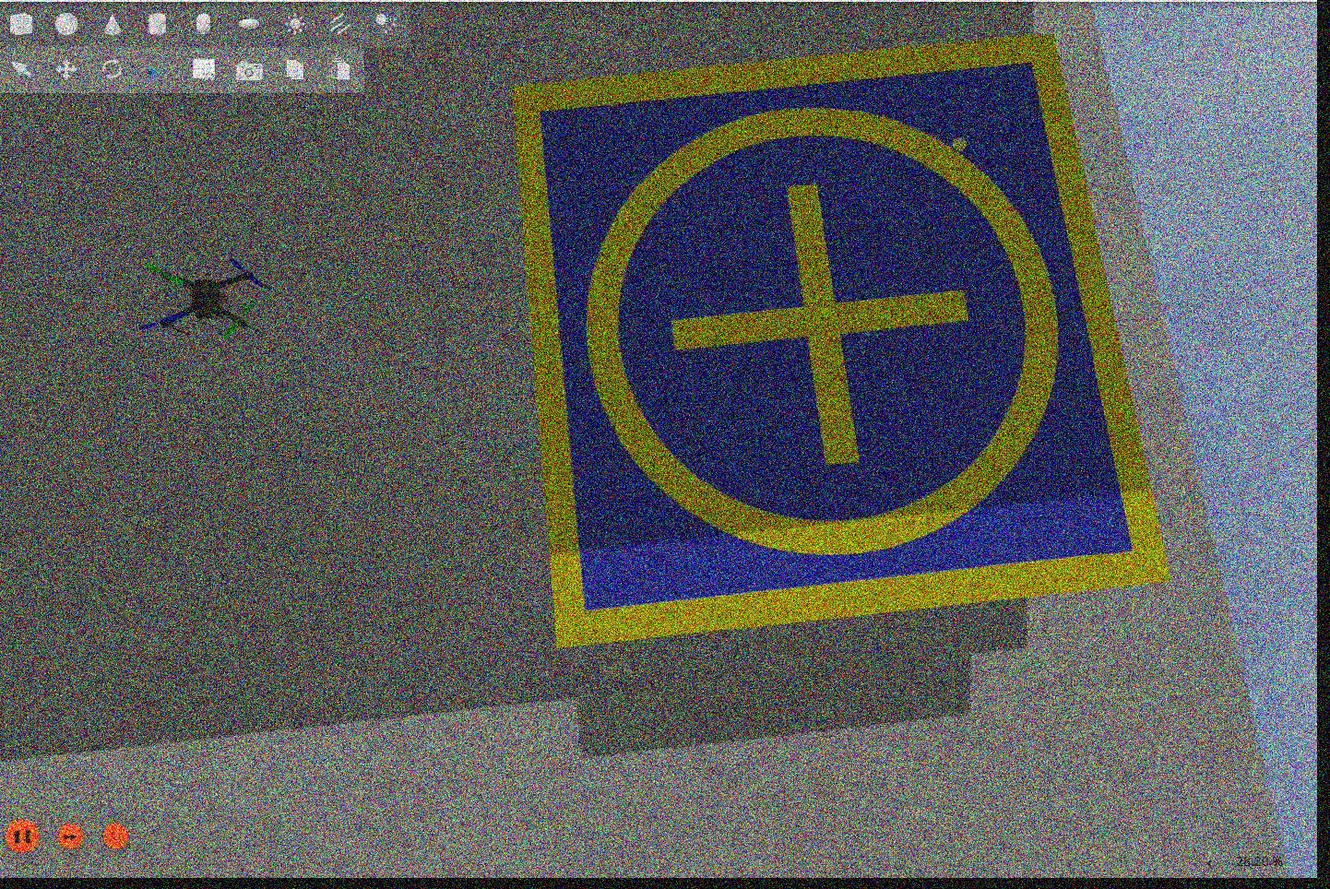small_base: (510, 35, 1172, 653)
